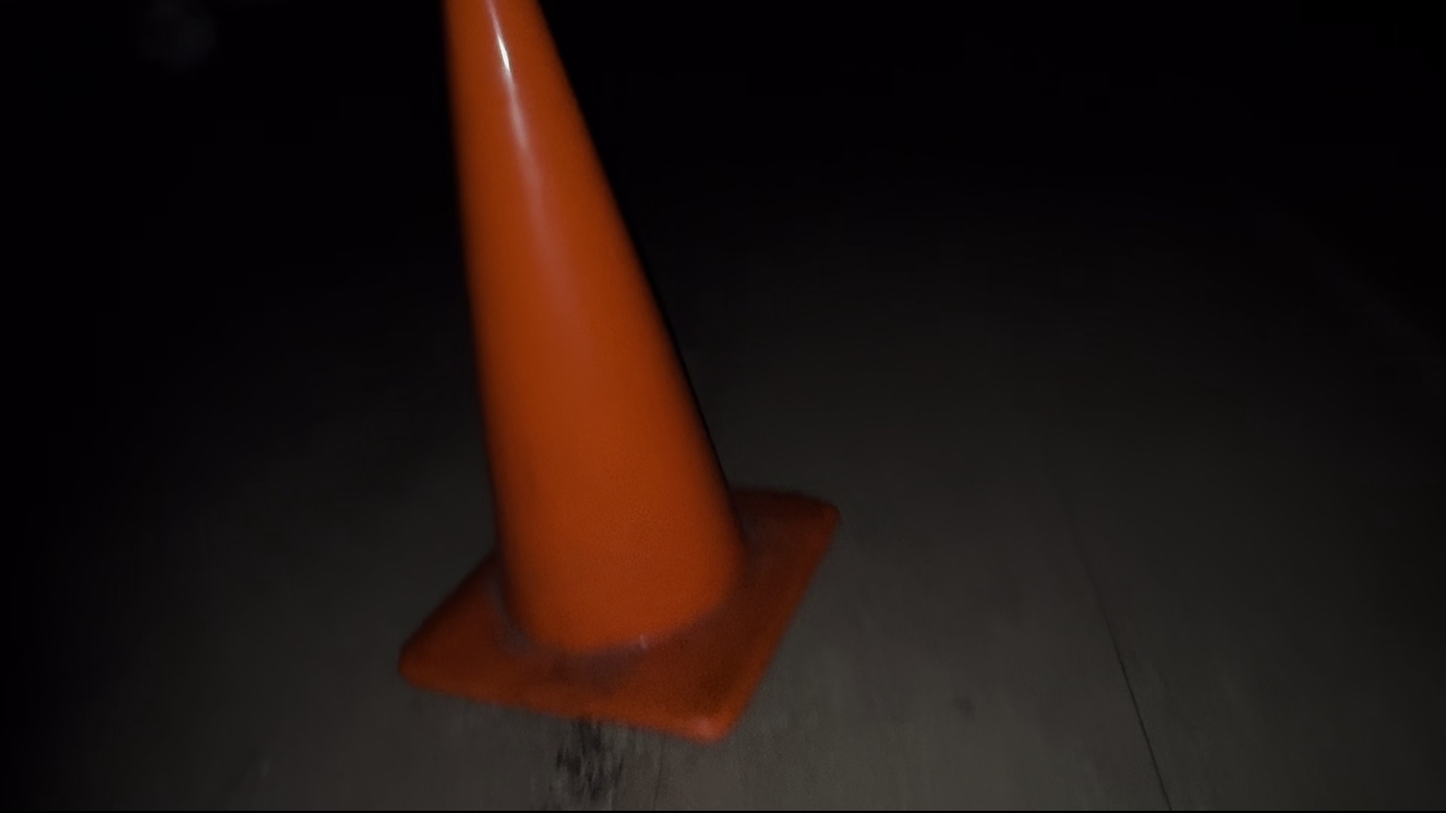traffic_cone: (395, 0, 841, 744)
